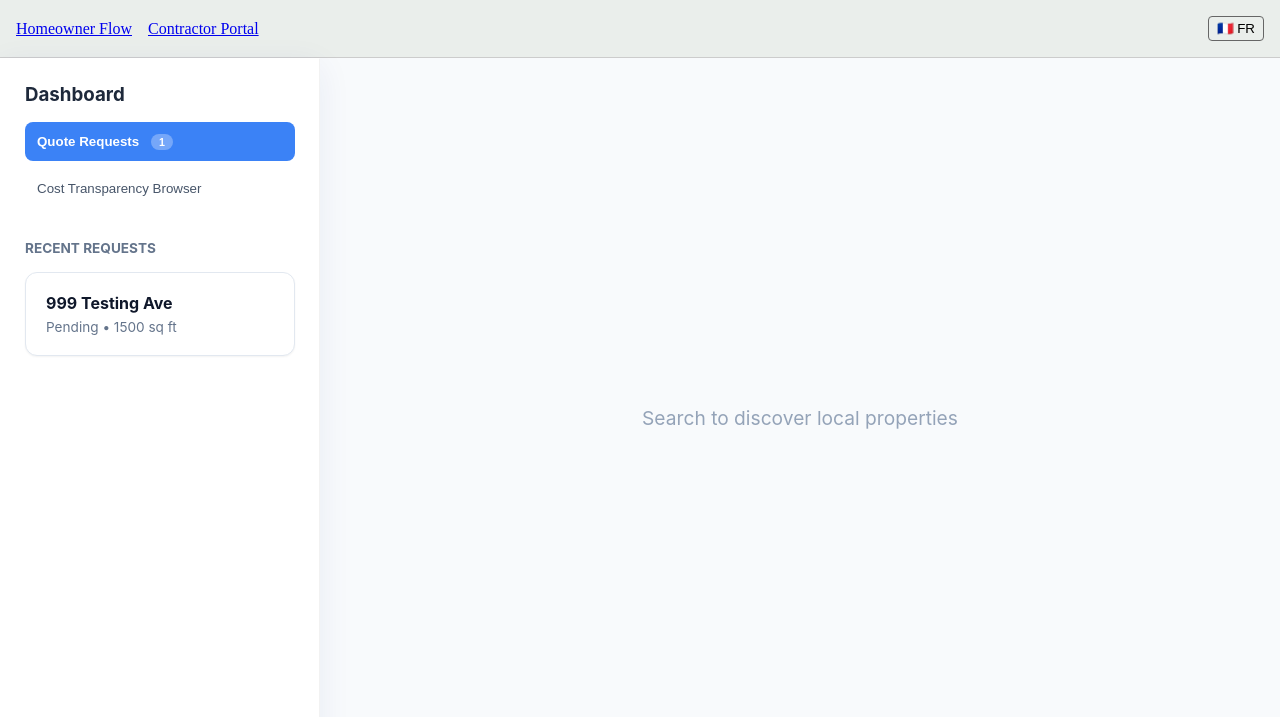
Test: Contractor Workspace Flow › loads quote requests and builds quotes
Click the text "999 Testing Ave" at (110, 303), box [46,293,173,313]
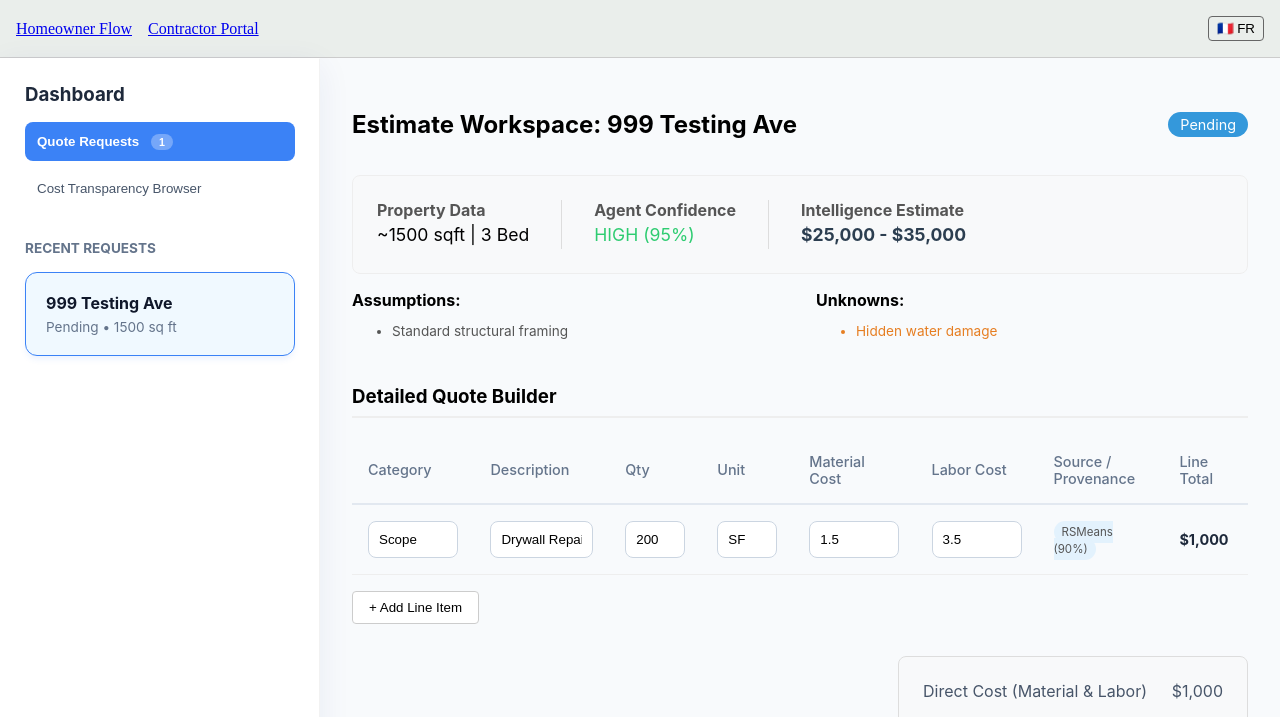
Expected: the text "Agent Confidence" is shown, [594,200,736,220]
Expected: the text "HIGH (95%)" is shown, [594,224,695,245]
Expected: the list item "Standard structural framing" is shown, [392,323,568,339]
Scroll
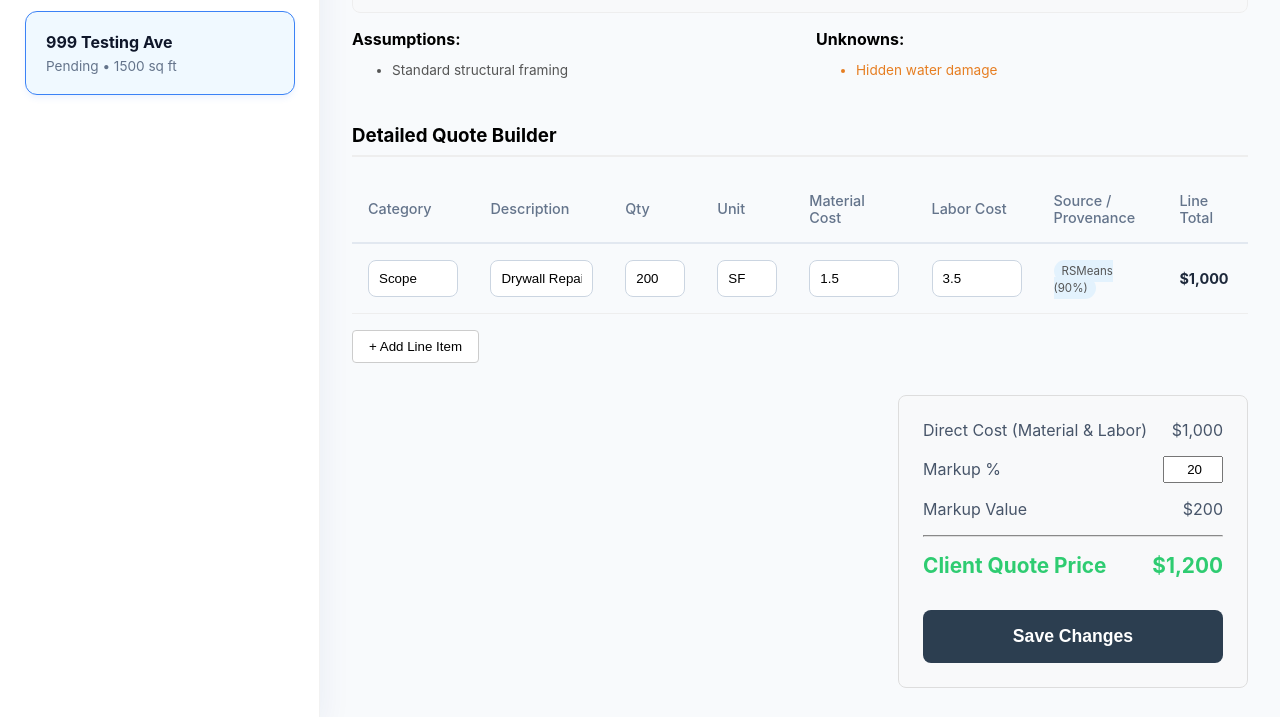
Replace the text in the number field in the row of "Markup %" with "25" at (1193, 470), box [1163,456,1223,483]
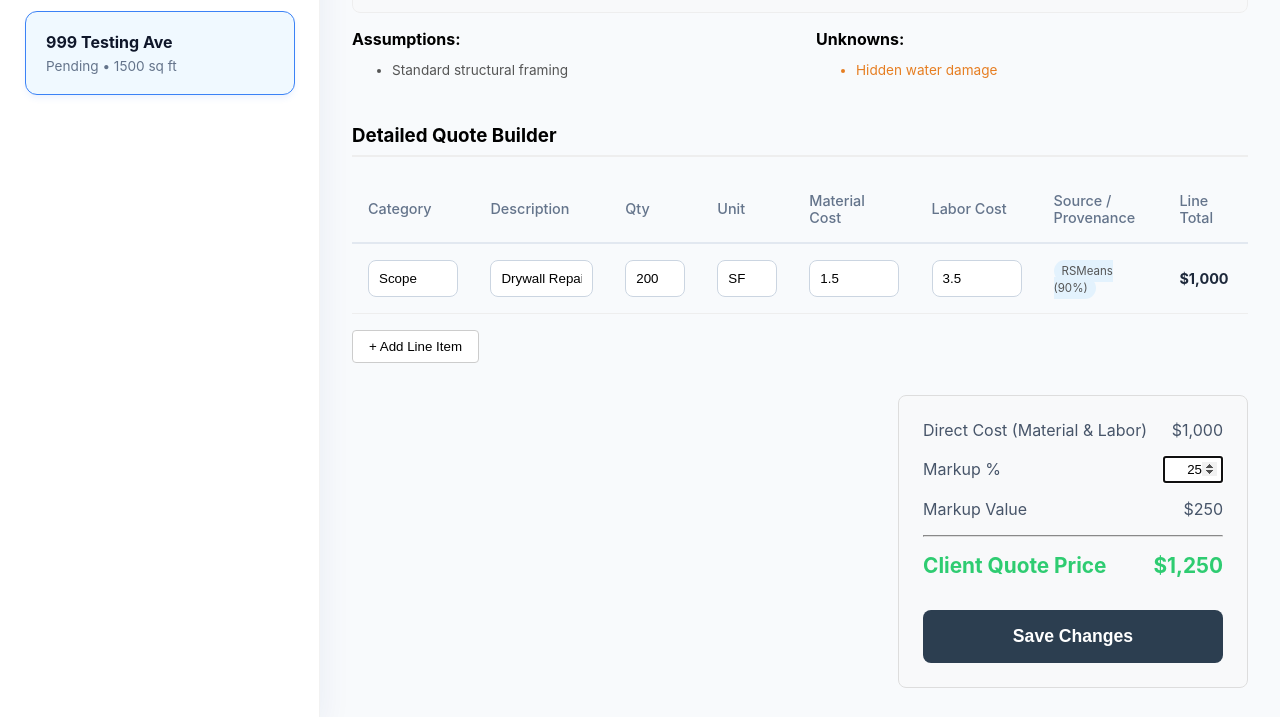
Expected: the text "$1,250" is shown, [1153,553,1223,578]
